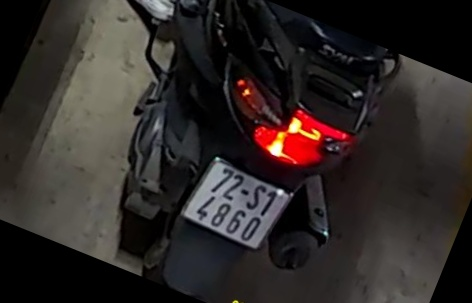plate: (182, 154, 286, 258)
